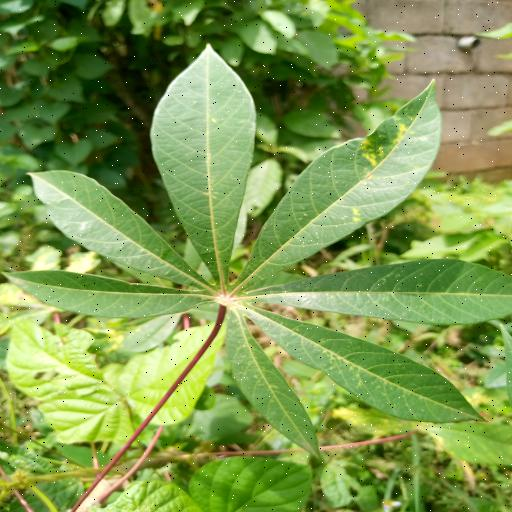Cassava_Mosaic: (0, 41, 512, 464)
